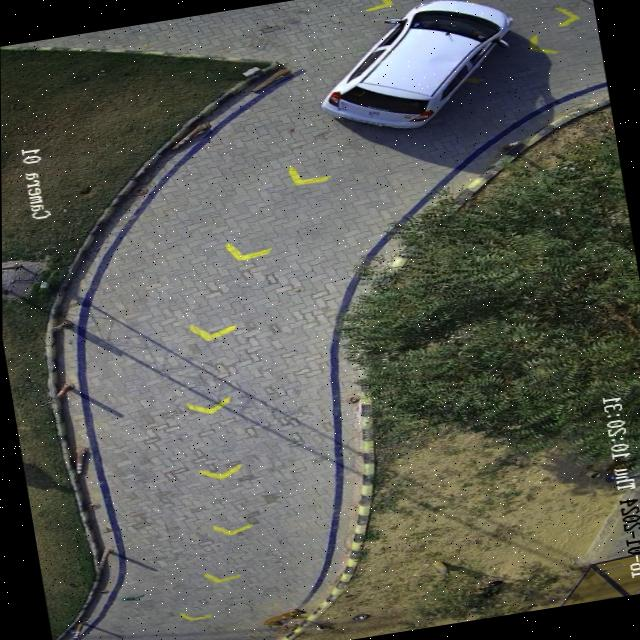car: (321, 0, 511, 129)
